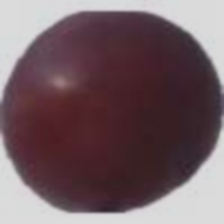grapes: (28, 16, 185, 199)
